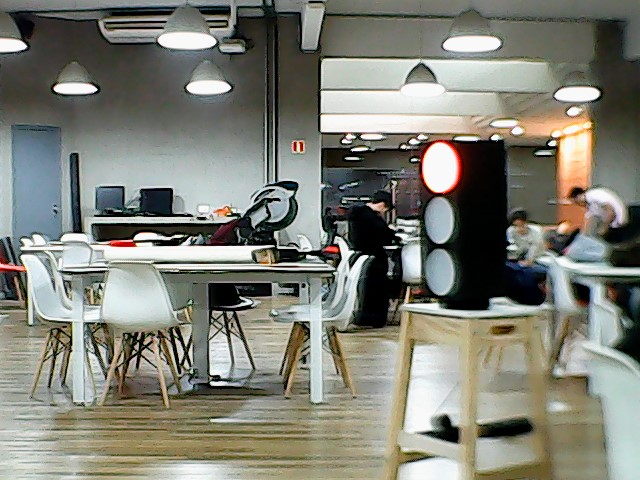vermelho: (413, 134, 510, 304)
